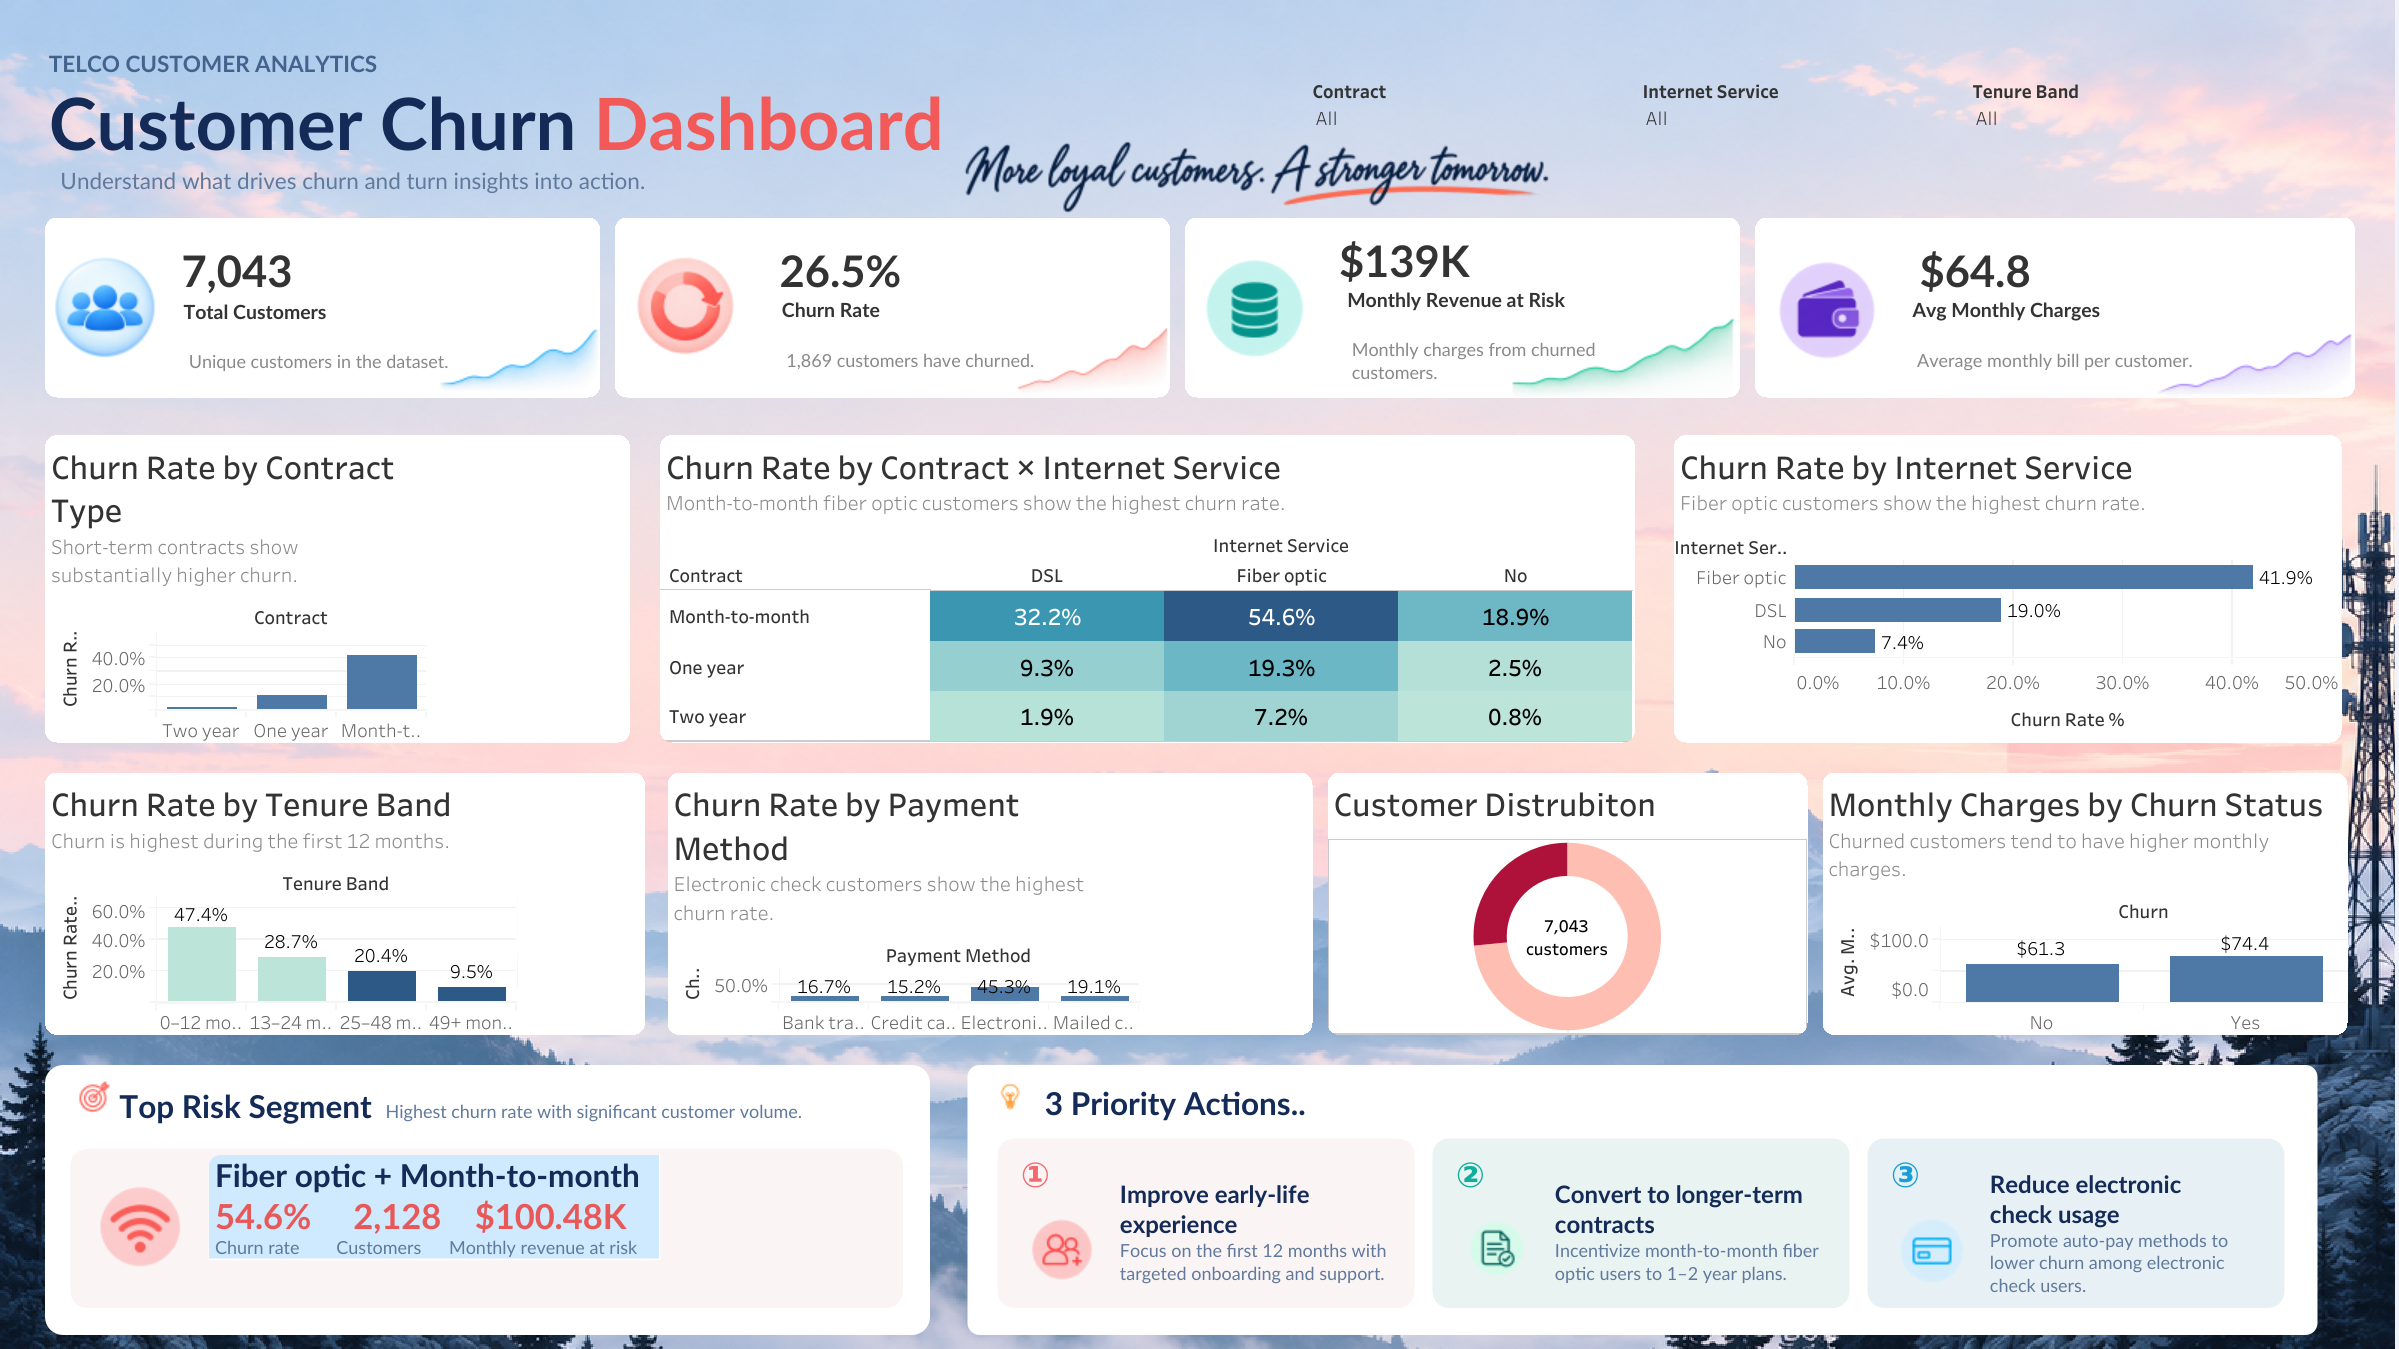

What the dashboard file says about the page in this screenshot:
{"tool":"tableau","page":{"name":"Overview","canvas":[1600,900],"ordinal":0},"visuals":[{"type":"image","box":[0,0,1600,900]},{"type":"text","box":[30,12,800,120]},{"type":"image","param":"Image/back text.png","box":[633,49,423,135]},{"type":"filter","title":"Churn - Contract Type","param":"[federated.1hqlltj0uc3ju616ucm3f0dkxez8].[none:Contract:nk]","box":[875,50,210,64]},{"type":"filter","title":"Churn - Internet Service","param":"[federated.1hqlltj0uc3ju616ucm3f0dkxez8].[none:InternetService:nk]","box":[1095,50,210,64]},{"type":"filter","title":"Churn - Tenure Band","param":"[federated.1hqlltj0uc3ju616ucm3f0dkxez8].[none:Calculation_0247164917096450:nk]","box":[1315,50,210,64]},{"type":"worksheet","title":"KPI - Total Customers","mark":"Automatic","box":[30,145,370,120]},{"type":"worksheet","title":"KPI - Churn Rate","mark":"Automatic","box":[410,145,370,120]},{"type":"worksheet","title":"KPI - Revenue Risk","mark":"Automatic","box":[790,145,370,120]},{"type":"worksheet","title":"KPI - Avg Monthly Charges","mark":"Automatic","box":[1170,145,400,120]},{"type":"image","param":"Image/churn.png","box":[414,161,210,86]},{"type":"image","param":"Image/total.png","box":[30,164,109,80]},{"type":"image","param":"Image/monthlych.png","box":[1176,164,92,84]},{"type":"image","param":"Image/rev.png","box":[799,168,82,75]},{"type":"image","param":"Image/revunue3.png","box":[915,191,249,99]},{"type":"image","param":"Image/tot1.png","box":[207,202,204,81]},{"type":"image","param":"Image/churn2.png","box":[571,202,216,108]},{"type":"image","param":"Image/last4.png","box":[1376,205,199,80]},{"type":"worksheet","title":"Churn - Contract Type","mark":"Automatic","rows":["Calculation_0247164918063111"],"cols":["Contract"],"box":[30,290,390,205]},{"type":"worksheet","title":"Churn Rate by Contract × Internet Service","mark":"Square","rows":["Contract"],"cols":["InternetService"],"box":[440,290,650,205]},{"type":"worksheet","title":"Churn - Internet Service","mark":"Automatic","rows":["InternetService"],"cols":["Calculation_0247164918063111"],"box":[1116,290,445,205]},{"type":"worksheet","title":"Churn - Tenure Band","mark":"Bar","rows":["Calculation_0247164918063111"],"cols":["Calculation_0247164917096450"],"box":[30,515,400,175]},{"type":"worksheet","title":"Churn Rate by Payment Method.","mark":"Bar","rows":["Calculation_0247164918063111"],"cols":["PaymentMethod"],"box":[445,515,430,175]},{"type":"worksheet","title":"Customer Distribution","mark":"Pie","cols":["Calculation_0777954812755969","Calculation_0777954812755969"],"box":[885,515,320,175]},{"type":"worksheet","title":"Monthly Charges - Churn Status","mark":"Bar","rows":["MonthlyCharges"],"cols":["Churn"],"box":[1215,515,350,175]},{"type":"blank","box":[30,710,590,180]},{"type":"text","box":[645,710,900,180]},{"type":"text","box":[694,715,540,40]},{"type":"image","param":"Image/target.png","box":[48,716,29,29]},{"type":"text","box":[77,717,515,40]},{"type":"image","param":"Image/exec-3ae92199-fa2d-497f-b933-3828b1a4b533.png","box":[659,717,29,29]},{"type":"text","box":[665,759,278,113]},{"type":"text","box":[955,759,278,113]},{"type":"text","box":[1245,759,278,113]},{"type":"blank","box":[47,766,555,106]},{"type":"worksheet","title":"Top Risk Segment","mark":"Automatic","box":[139,770,456,94]},{"type":"text","box":[678,770,30,28]},{"type":"text","box":[968,770,30,28]},{"type":"text","box":[1258,770,30,28]},{"type":"image","param":"Image/wifi.png","box":[60,784,67,67]},{"type":"image","param":"Image/people.png","box":[682,807,52,52]},{"type":"image","param":"Image/contract.png","box":[972,807,52,52]},{"type":"image","param":"Image/card.png","box":[1262,807,52,52]}]}

Visuals, with their boxes in screenshot pixels (x1, y1, x2, y2), scaled from the page's 1600x900 canvas onto the 2399x1349 screenshot:
image: left=0, top=0, right=2398, bottom=1348
text: left=45, top=18, right=1244, bottom=198
image: left=949, top=73, right=1583, bottom=276
"Churn - Contract Type" filter: left=1312, top=75, right=1627, bottom=171
"Churn - Internet Service" filter: left=1642, top=75, right=1957, bottom=171
"Churn - Tenure Band" filter: left=1972, top=75, right=2287, bottom=171
"KPI - Total Customers" worksheet: left=45, top=217, right=600, bottom=397
"KPI - Churn Rate" worksheet: left=615, top=217, right=1170, bottom=397
"KPI - Revenue Risk" worksheet: left=1185, top=217, right=1739, bottom=397
"KPI - Avg Monthly Charges" worksheet: left=1754, top=217, right=2354, bottom=397
image: left=621, top=241, right=936, bottom=370
image: left=45, top=246, right=208, bottom=366
image: left=1763, top=246, right=1901, bottom=372
image: left=1198, top=252, right=1321, bottom=364
image: left=1372, top=286, right=1745, bottom=435
image: left=310, top=303, right=616, bottom=424
image: left=856, top=303, right=1180, bottom=465
image: left=2063, top=307, right=2362, bottom=427
"Churn - Contract Type" worksheet: left=45, top=435, right=630, bottom=742
"Churn Rate by Contract × Internet Service" worksheet (Square marks): left=660, top=435, right=1634, bottom=742
"Churn - Internet Service" worksheet: left=1673, top=435, right=2341, bottom=742
"Churn - Tenure Band" worksheet (Bar marks): left=45, top=772, right=645, bottom=1034
"Churn Rate by Payment Method." worksheet (Bar marks): left=667, top=772, right=1312, bottom=1034
"Customer Distribution" worksheet (Pie marks): left=1327, top=772, right=1807, bottom=1034
"Monthly Charges - Churn Status" worksheet (Bar marks): left=1822, top=772, right=2347, bottom=1034
blank: left=45, top=1064, right=930, bottom=1334
text: left=967, top=1064, right=2317, bottom=1334
text: left=1041, top=1072, right=1850, bottom=1132
image: left=72, top=1073, right=115, bottom=1117
text: left=115, top=1075, right=888, bottom=1135
image: left=988, top=1075, right=1032, bottom=1118
text: left=997, top=1138, right=1414, bottom=1307
text: left=1432, top=1138, right=1849, bottom=1307
text: left=1867, top=1138, right=2284, bottom=1307
blank: left=70, top=1148, right=903, bottom=1307
"Top Risk Segment" worksheet: left=208, top=1154, right=892, bottom=1295
text: left=1017, top=1154, right=1062, bottom=1196
text: left=1451, top=1154, right=1496, bottom=1196
text: left=1886, top=1154, right=1931, bottom=1196
image: left=90, top=1175, right=190, bottom=1276
image: left=1023, top=1210, right=1101, bottom=1288
image: left=1457, top=1210, right=1535, bottom=1288
image: left=1892, top=1210, right=1970, bottom=1288
